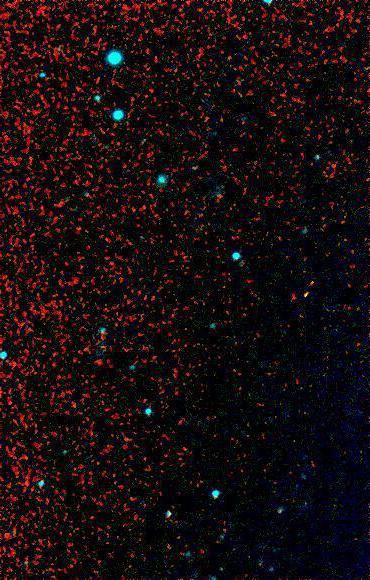star: (292, 280, 322, 310)
